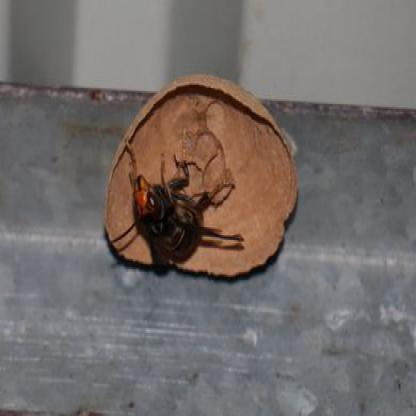Asian Hornet: (109, 124, 247, 280)
